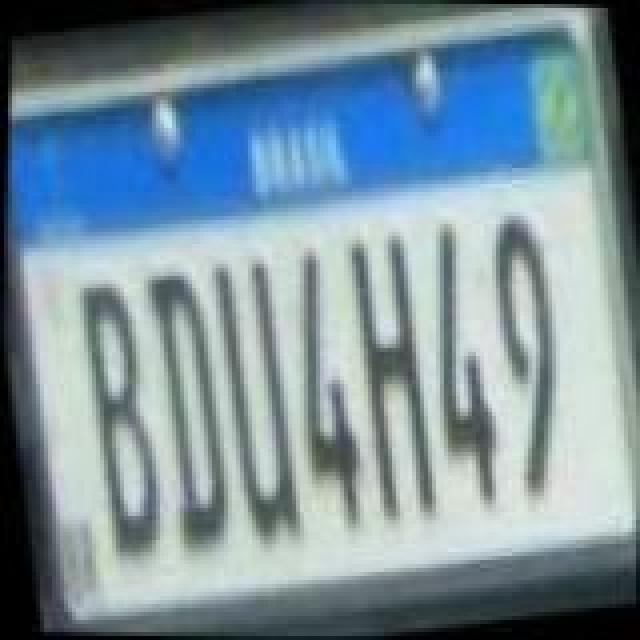4: (402, 216, 510, 516), (268, 240, 372, 532)
9: (470, 206, 586, 506)
B: (64, 270, 172, 562)
D: (128, 258, 244, 554)
H: (334, 224, 450, 528)
U: (196, 252, 312, 556)
